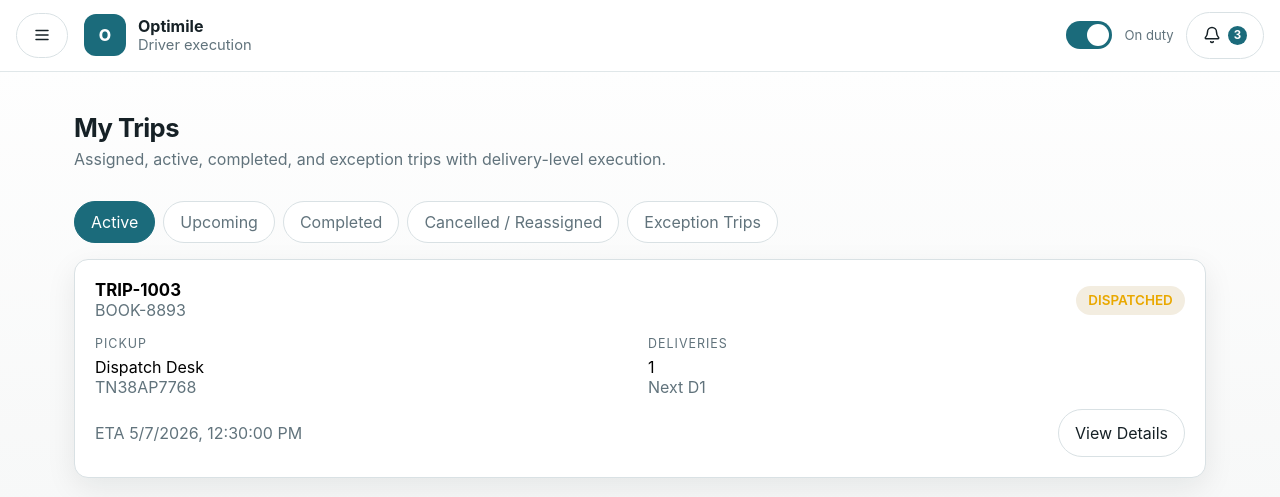
Test: trip flow › filters completed trips in my trips
Expected: the heading "My Trips" is shown, x1=74 y1=112 x2=179 y2=143
What coordinates should you click on to do the following:
click the button "Completed"
I would click on:
 (341, 222)
Its box is x1=283 y1=201 x2=399 y2=243.
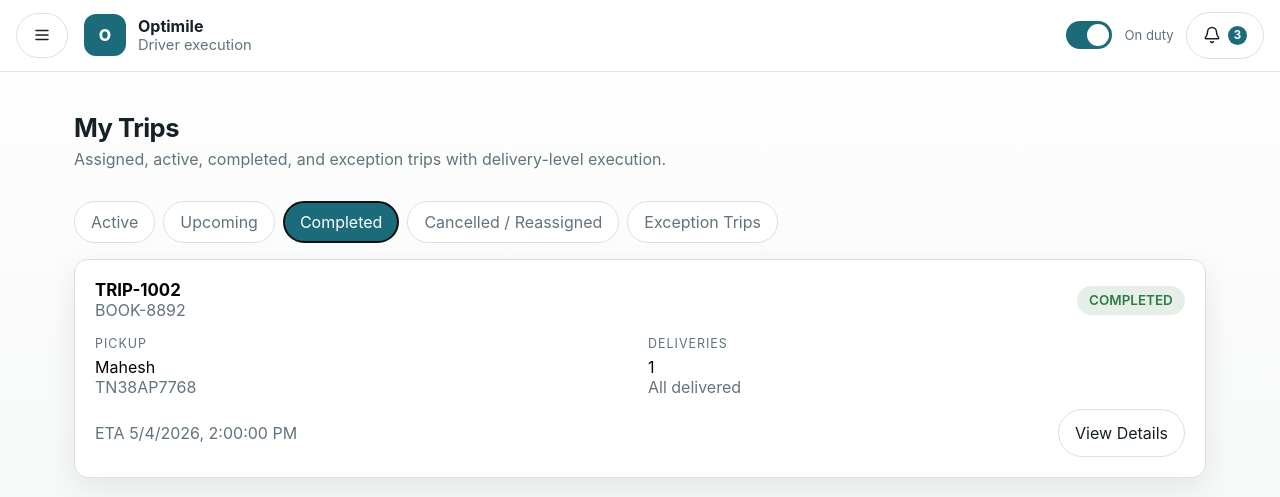
Now the text "TRIP-1002" is shown, box x1=95 y1=280 x2=186 y2=300
